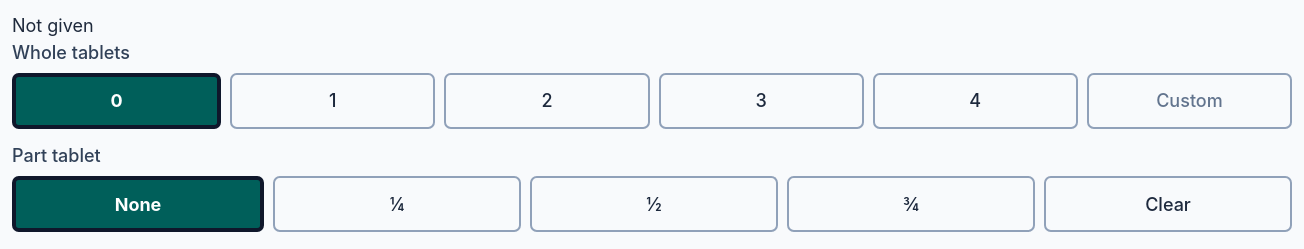
Test: DosePicker custom whole-tablets input › typing "7", setting part to ½, then emptying the field leaves just the part tablet
This screenshot has width=1304, height=249.
Type "7" into the field at (1189, 101), box [1087,73,1292,129]
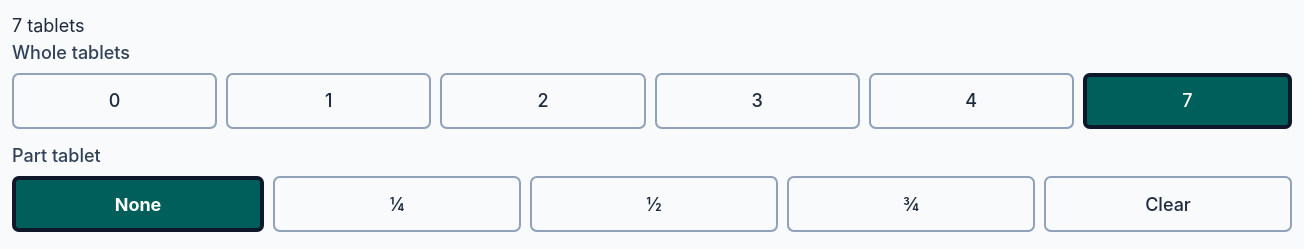
Click the button "½" at (654, 204), box [530,176,778,232]
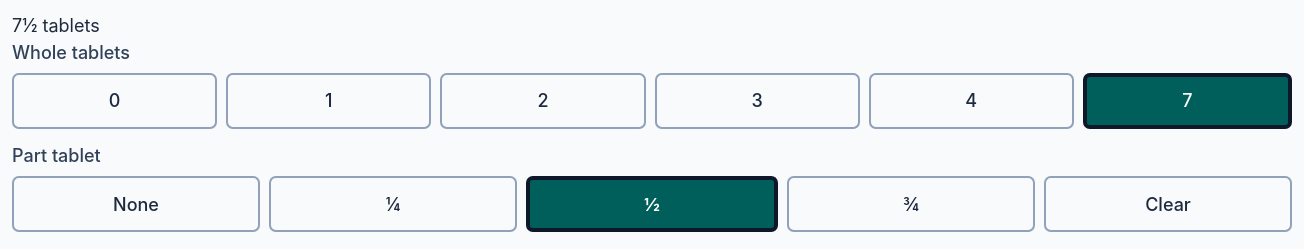
Check: the text "7½ tablets" is shown, box [12,15,100,36]
Clear the field at (1187, 101), box [1083,73,1292,129]
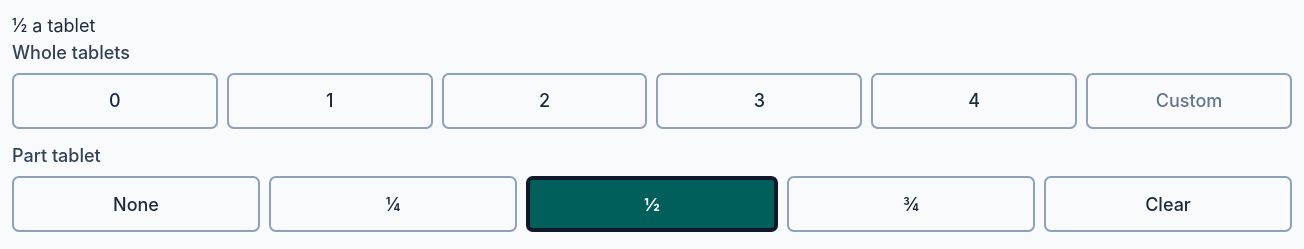
Check: the text "½ a tablet" is shown, box [12,15,95,36]
